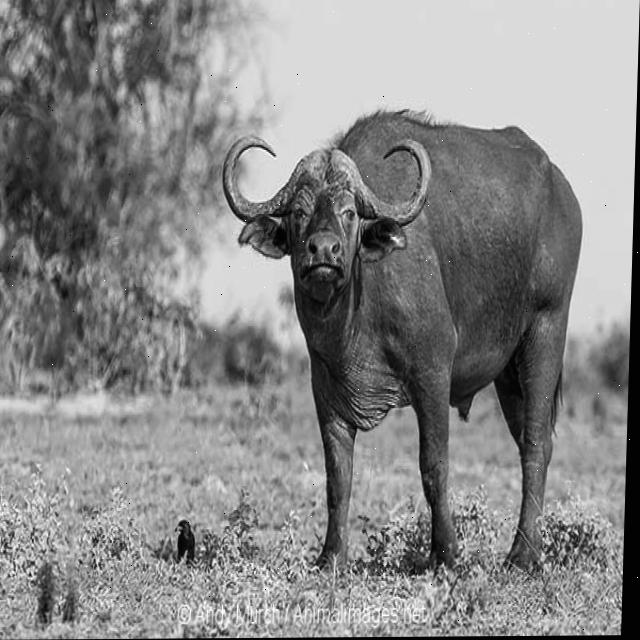Buffalo: (210, 107, 587, 581)
